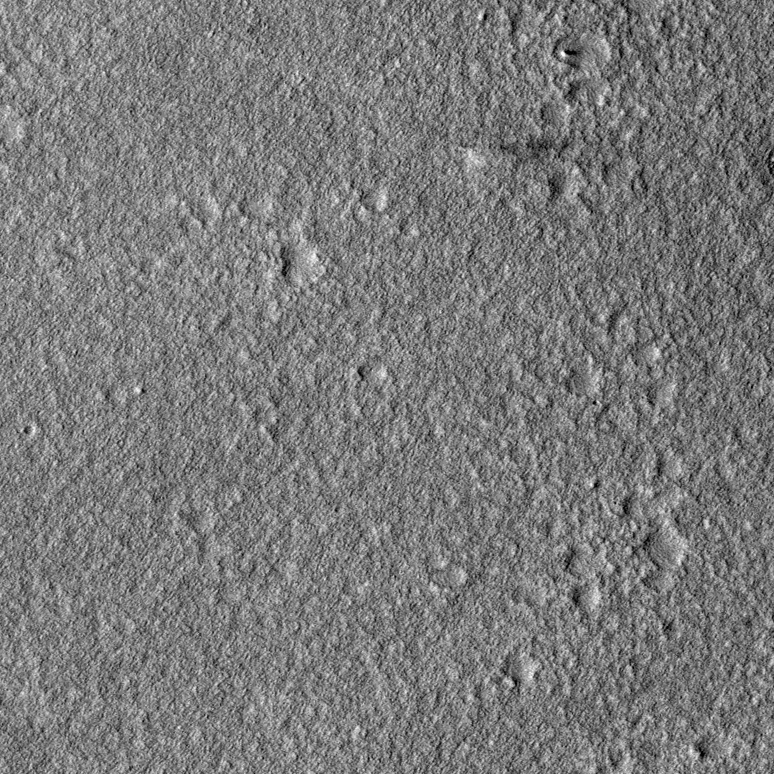dust_devil: (464, 131, 571, 174)
